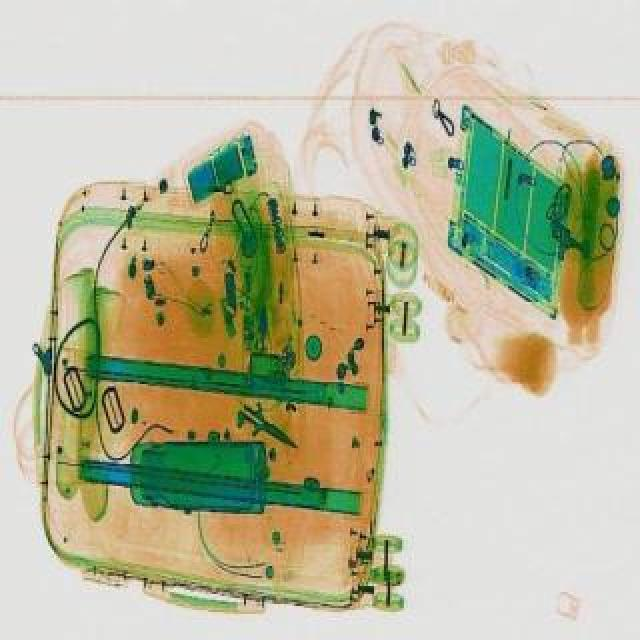knife: (230, 392, 308, 456)
